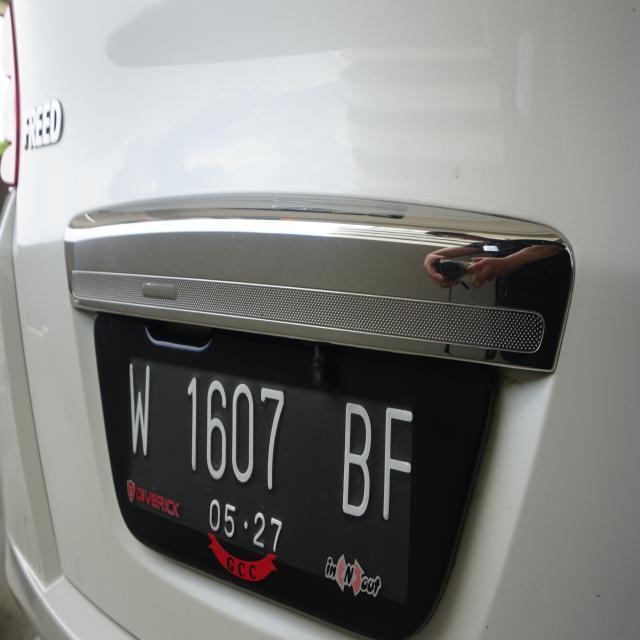0: (230, 386, 263, 489)
1: (180, 372, 205, 489)
6: (204, 369, 228, 487)
7: (252, 379, 288, 502)
B: (334, 396, 374, 526)
F: (371, 396, 416, 536)
W: (117, 347, 156, 462)
